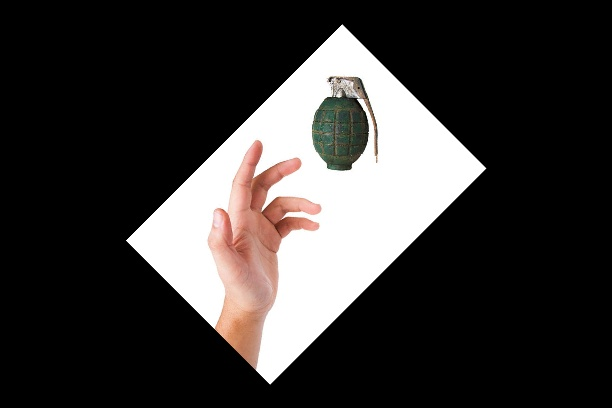e1: (311, 77, 380, 172)
